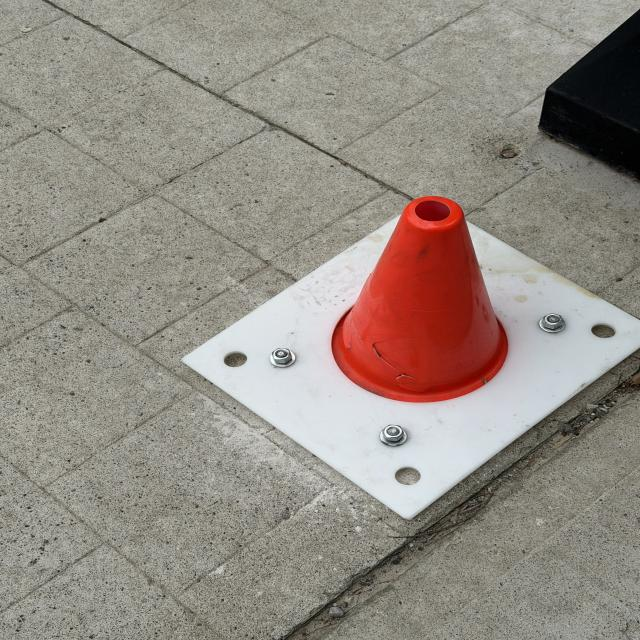Traffic Cone: (330, 195, 513, 404)
